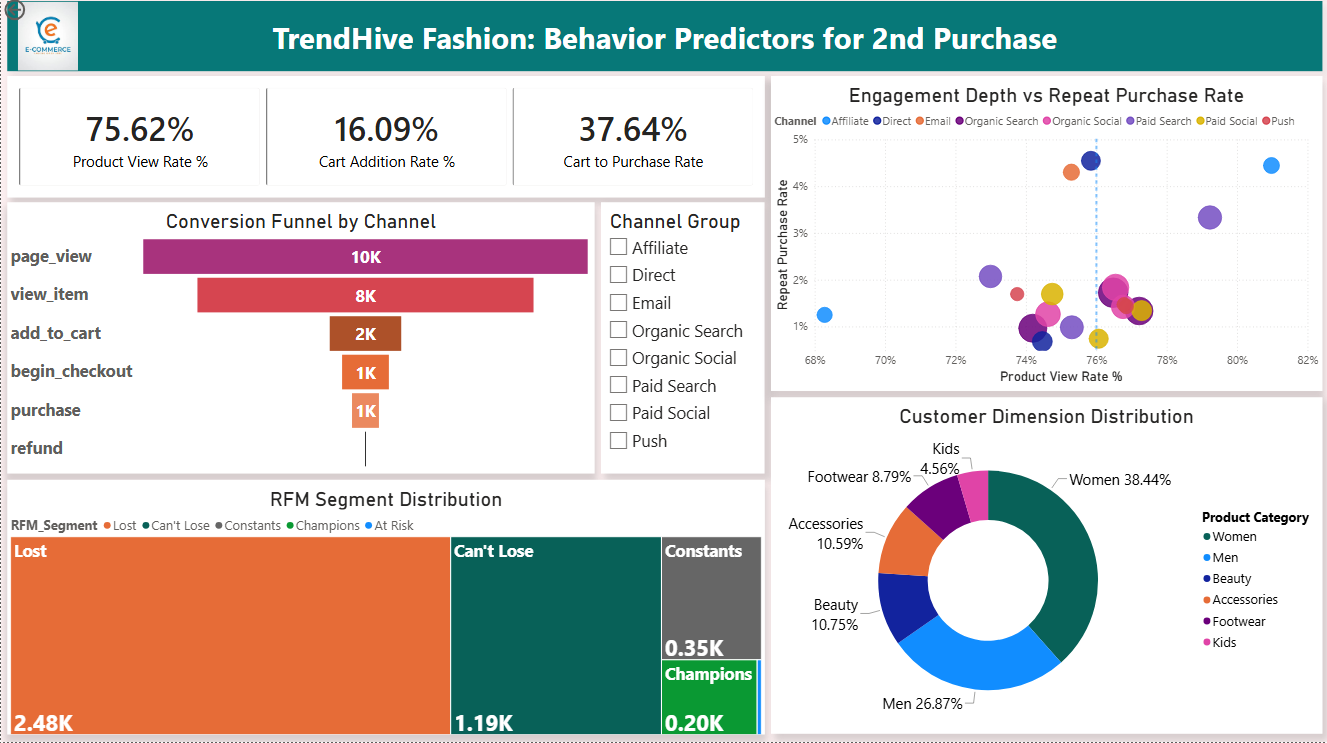

The page's visual inventory and layout, read from the dashboard file:
{"tool":"powerbi","page":{"name":"Behavioral Analysis","canvas":[1920,1080],"ordinal":2},"visuals":[{"type":"textbox","box":[9,7.2,1903.8,101.3],"z":0},{"type":"image","box":[23.5,7.2,88.7,101.3],"z":1000},{"type":"cardVisual","fields":{"Data":["Sheet1.Product View Rate %","Sheet1.Cart Addition Rate %","Sheet1.Cart to Purchase Rate"]},"box":[8.7,115.1,1097.1,176.2],"z":2000},{"type":"funnel","title":"Conversion Funnel by Channel","fields":{"Y":["Sum(Funnel.Event count)"],"Category":["Funnel.Funnel steps"]},"box":[9,298.8,850.5,392.7],"z":3000},{"type":"slicer","fields":{"Values":["Sheet1.channel_group"]},"box":[868.6,298.8,237.1,392.7],"z":4000},{"type":"scatterChart","title":"Engagement Depth vs Repeat Purchase Rate","fields":{"X":["Sheet1.Product View Rate %"],"Y":["Sheet1.Repeat Purchase Rate"],"Series":["Sheet1.channel_group"],"Size":["Count(Sheet1.customer_id)"],"Category":["Sheet1.Cohort Month"]},"box":[1114.8,115.8,798.1,456],"z":5000},{"type":"treemap","title":"RFM Segment Distribution","fields":{"Group":["Sheet1.RFM_Segment"],"Values":["Count(Sheet1.customer_id)"]},"box":[9,700.3,1097,369.2],"z":6000},{"type":"actionButton","box":[0,0,100,40],"z":7000},{"type":"donutChart","title":"Customer Dimension Distribution","fields":{"Category":["Sheet1.product_category","Sheet1.city","Sheet1.day_of_week"],"Y":["Count(Sheet1.customer_id)"]},"box":[1114.8,580.9,798.1,487],"z":9000}]}

Visuals, with their boxes in screenshot pixels (x1, y1, x2, y2), scaled from the page's 1920x1080 canvas onto the 1327x743 screenshot:
textbox: locate(6, 5, 1322, 75)
image: locate(16, 5, 78, 75)
cardVisual - Sheet1.Product View Rate % x Sheet1.Cart Addition Rate %: locate(6, 79, 764, 200)
"Conversion Funnel by Channel" funnel: locate(6, 206, 594, 476)
slicer - Sheet1.channel_group: locate(600, 206, 764, 476)
"Engagement Depth vs Repeat Purchase Rate" scatterChart: locate(770, 80, 1322, 393)
"RFM Segment Distribution" treemap: locate(6, 482, 764, 736)
actionButton: locate(0, 0, 69, 28)
"Customer Dimension Distribution" donutChart: locate(770, 400, 1322, 735)
